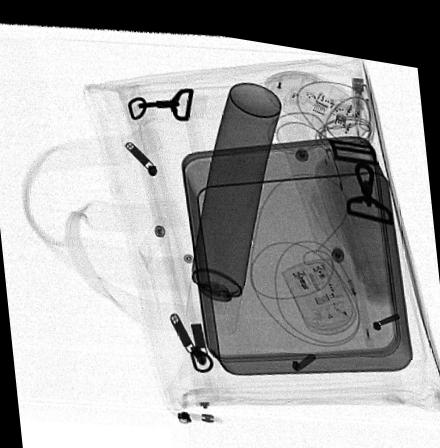Sprayer: (184, 73, 281, 326)
